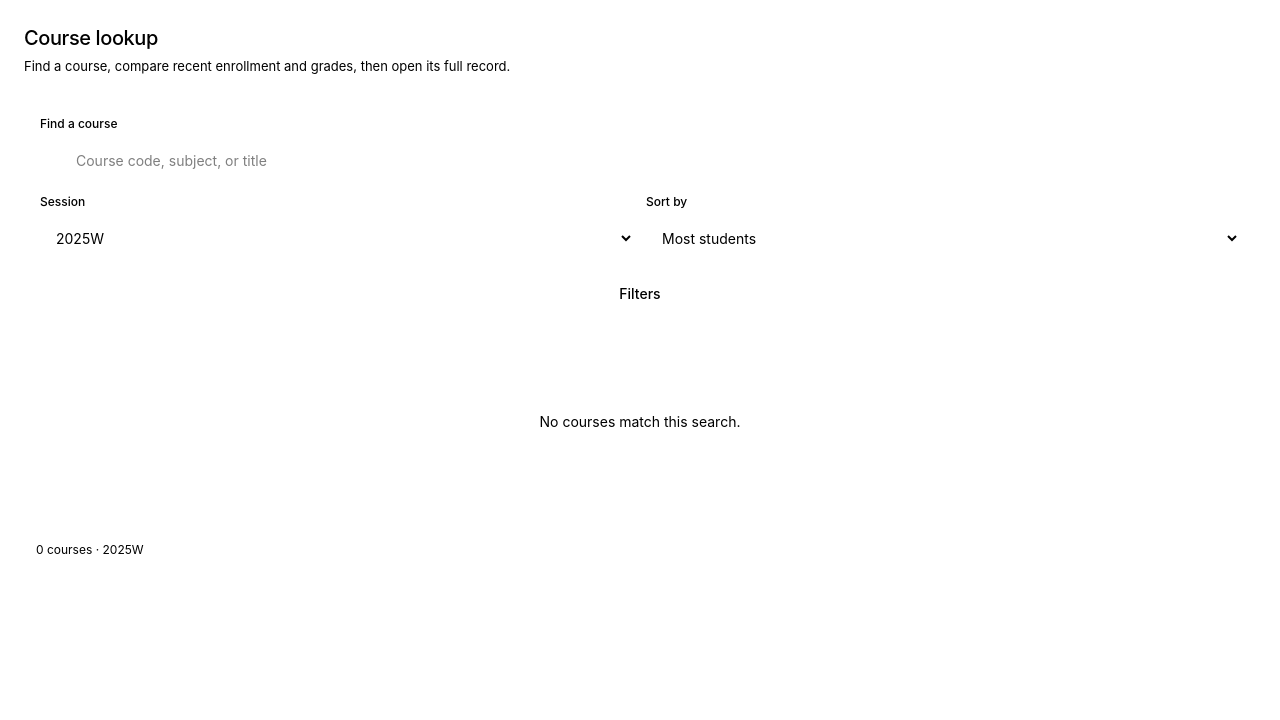
it: course loading consistency › does not replace a successful empty result with initial skeletons during refresh
expect the text "No courses match this search." is shown: met, box [540, 412, 740, 432]
Select "Code (A–Z)" in the dropdown labelled "Sort by" at point(943, 238), box [646, 216, 1240, 260]
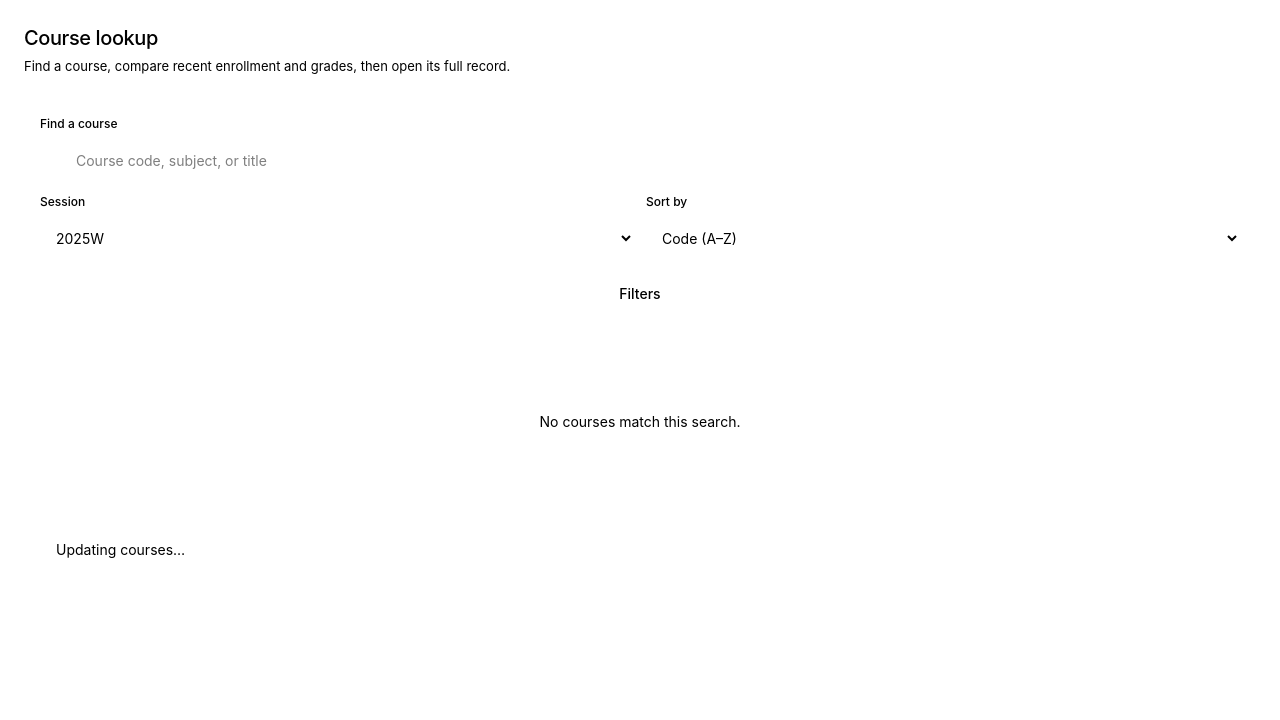
expect the text "Updating courses…" is shown: met, box [56, 540, 185, 560]
